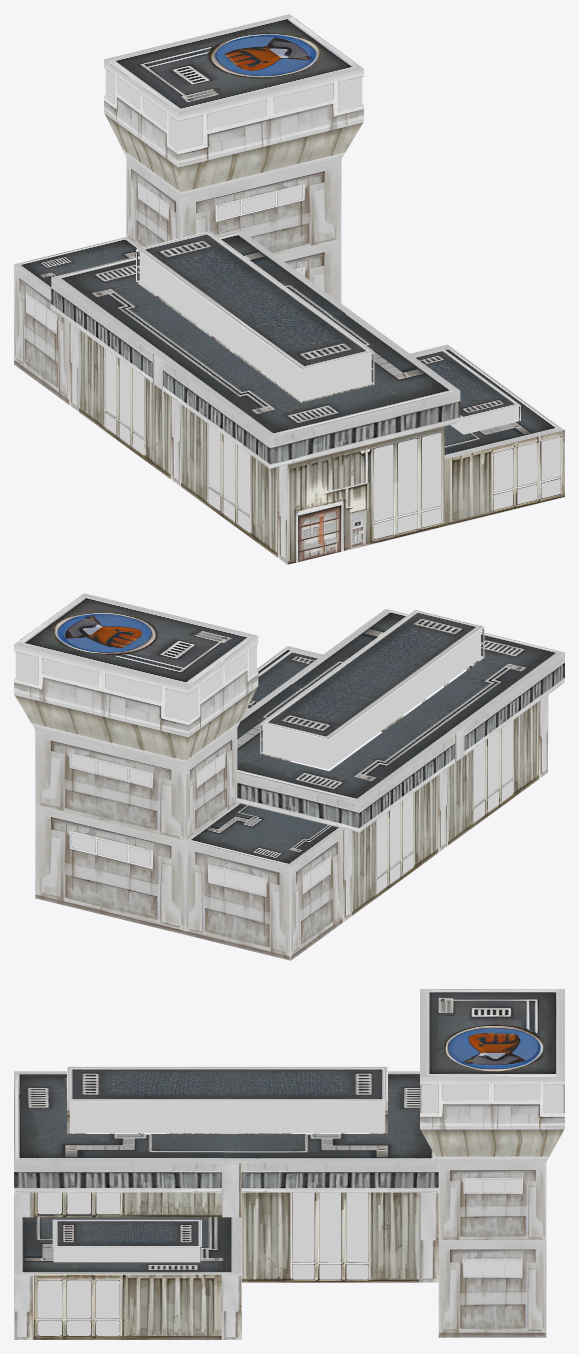
Rendered from s_hq_hdtex.glb.
3 views of the same model, one above another, from view 1: azimuth 30°, elevation 25°; view 2: azimuth 150°, elevation 25°; view 3: azimuth 270°, elevation 25° (orthographic). The views are drawn at different scales.
Visible parts, largest first — view 1: S_HQ, Litwin_SensorCon; view 2: S_HQ, Litwin_SensorCon; view 3: S_HQ, Litwin_SensorCon.
Boxes of the visible parts, <box> form: S_HQ: <box>14,14,564,564</box>; Litwin_SensorCon: <box>27,69,560,538</box>; S_HQ: <box>14,593,564,960</box>; Litwin_SensorCon: <box>15,629,512,894</box>; S_HQ: <box>14,989,564,1339</box>; Litwin_SensorCon: <box>38,1085,563,1335</box>.
Size of the model in its own units: 19.08 by 16.48 by 30.89.
2 materials, 2 textured.
